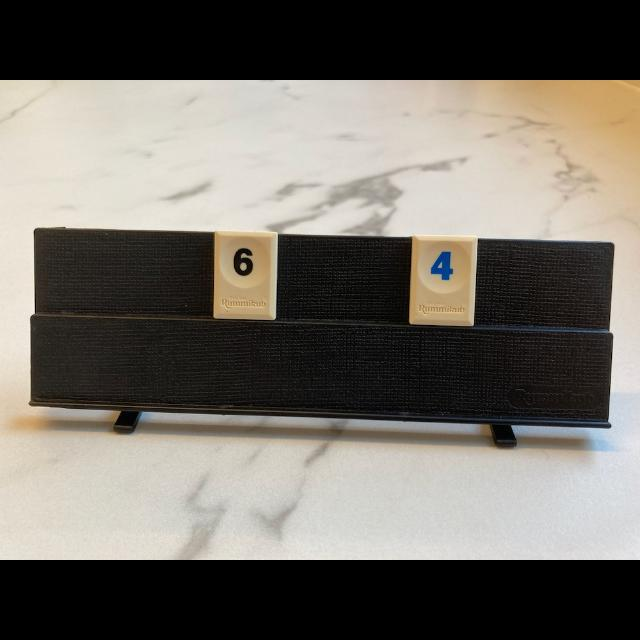black_6: (214, 231, 278, 320)
blue_4: (409, 235, 478, 326)
